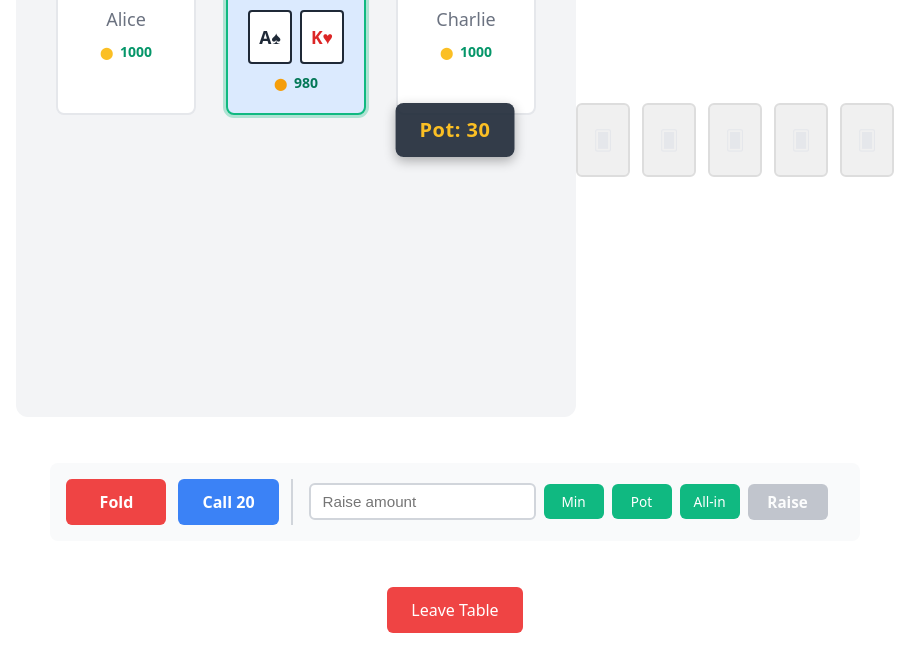
it: Action Bar Tests - Phase 5 › TestTableView_RaiseAction › should enable Raise button when amount is valid
(page scrolled)
Type "100" into the field labelled "Raise amount". click: (422, 502)
box: [308,483,536,520]
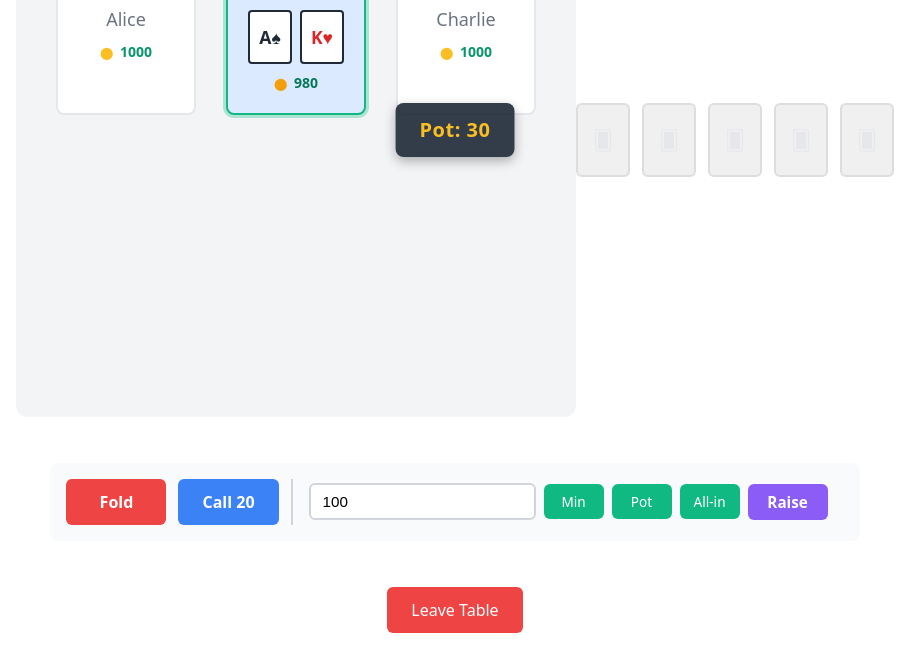
Expected: the button "Raise" is enabled, [748,484,828,520]
